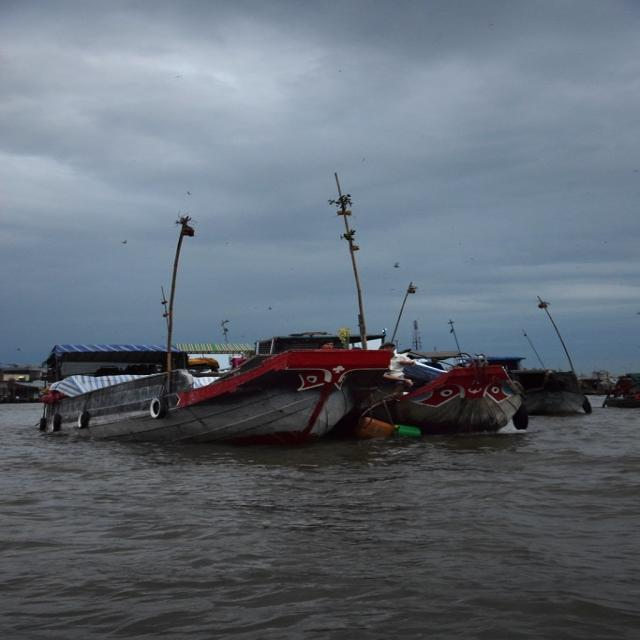boat: (21, 343, 381, 452), (514, 352, 580, 423)
